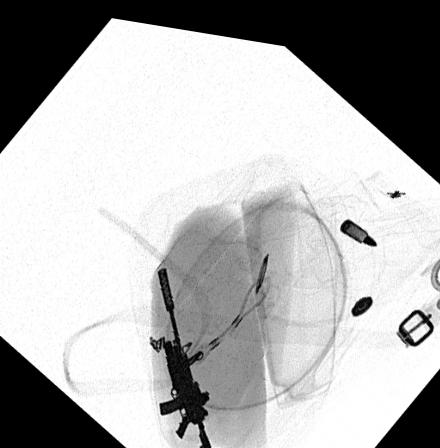Bullet: (340, 206, 380, 233)
Gun: (158, 262, 217, 448)
